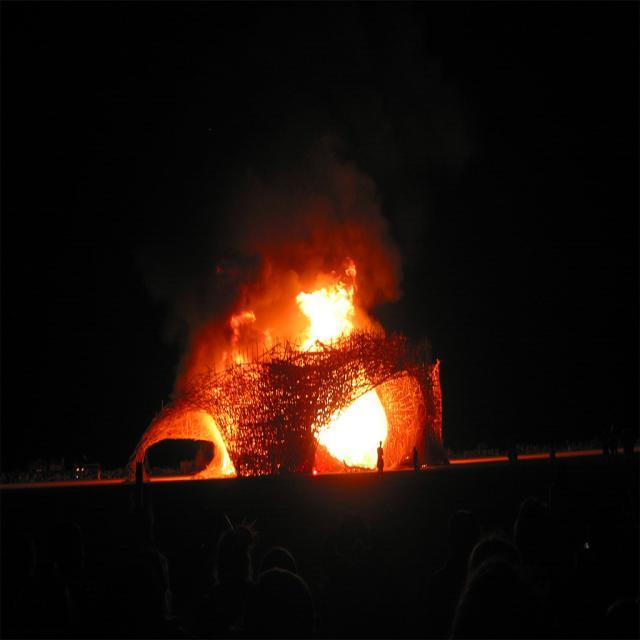Fire: (280, 273, 394, 472)
Smoke: (218, 114, 404, 303)
